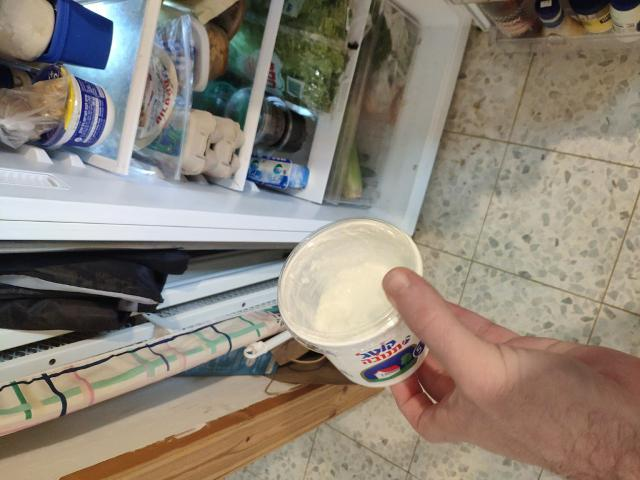cotage: (280, 236, 438, 394)
